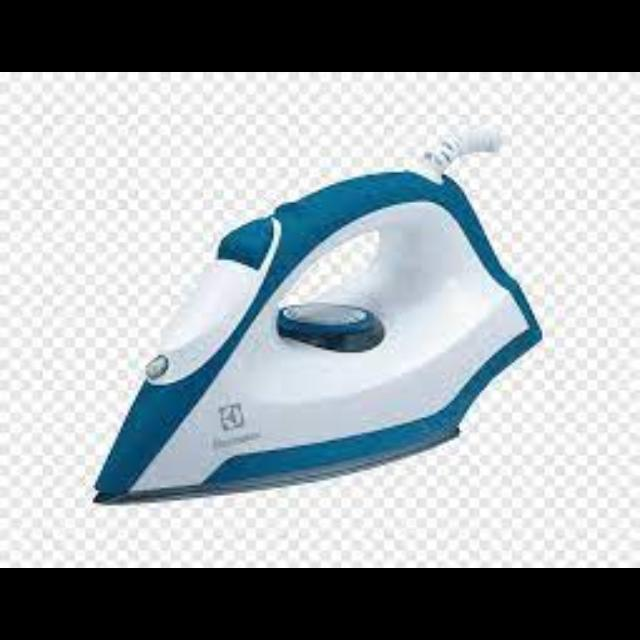Clothes-Iron: (139, 167, 469, 478)
